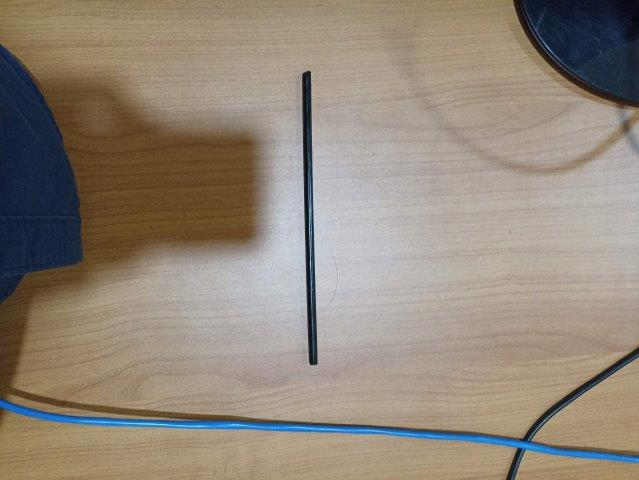sedotan: (302, 71, 318, 366)
